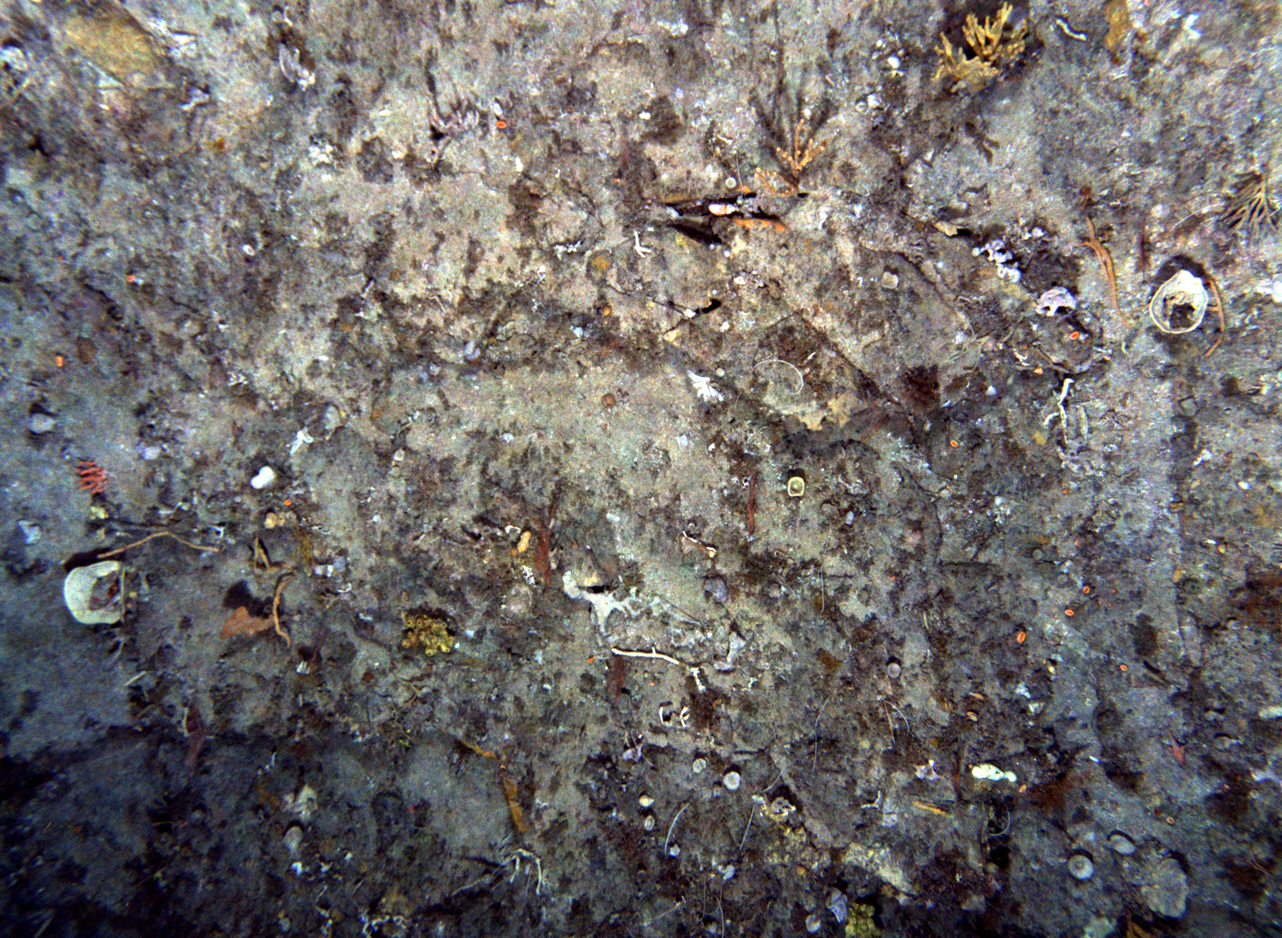Brachionichthyidae: (1162, 725, 1188, 767)
